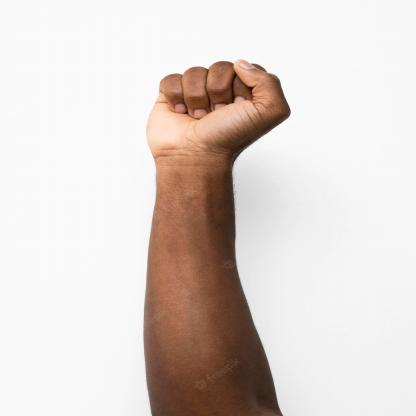fist: (114, 48, 333, 176)
